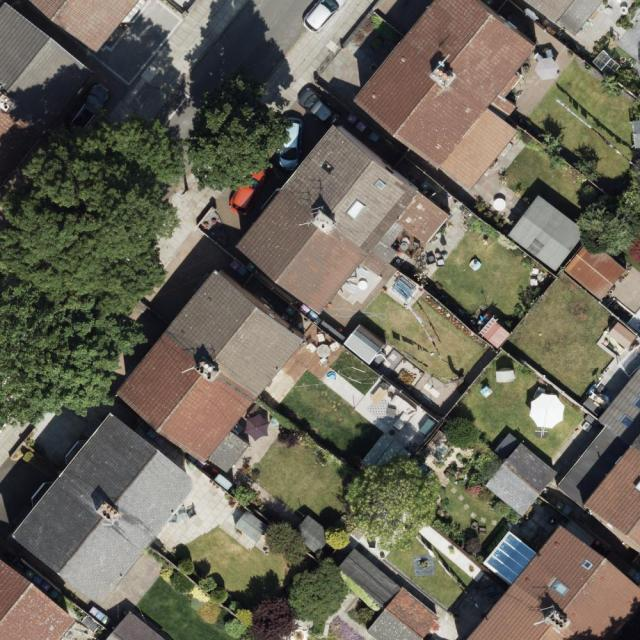roof: (232, 122, 454, 336), (113, 264, 307, 469), (10, 409, 202, 611), (347, 0, 543, 197), (461, 523, 640, 640), (0, 0, 98, 185), (553, 360, 640, 553), (29, 0, 151, 58), (0, 560, 77, 640), (482, 445, 559, 517), (367, 583, 441, 640), (518, 0, 607, 44)
skylight: (479, 528, 540, 588), (343, 196, 370, 221), (552, 573, 576, 601), (617, 410, 636, 434), (573, 555, 595, 575), (368, 172, 388, 191), (635, 391, 640, 409)
